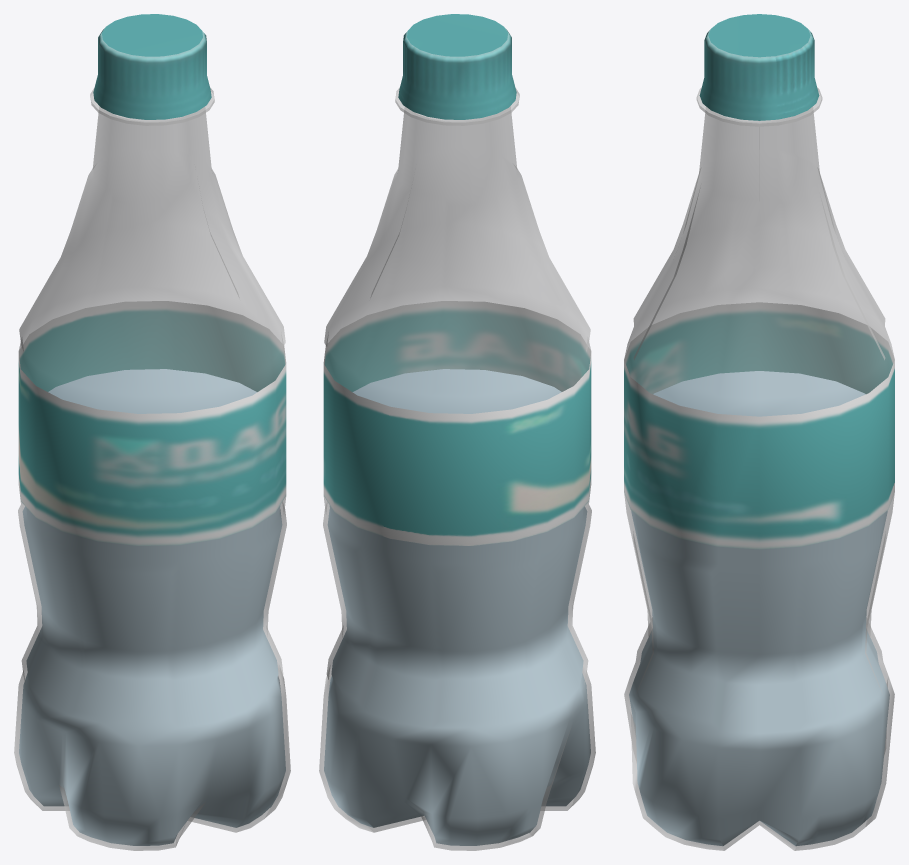
Rendered from petbottle_500ml_half_c02.fbx.
3 views of the same model, side by side, from view 1: azimuth 30°, elevation 25°; view 2: azimuth 150°, elevation 25°; view 3: azimuth 270°, elevation 25° (orthographic).
Visible parts, largest first — view 1: petbottle_500ml_half_c02; view 2: petbottle_500ml_half_c02; view 3: petbottle_500ml_half_c02.
Part boxes in pixels (x1,y1,x2,y2): petbottle_500ml_half_c02: (14, 14, 290, 850); petbottle_500ml_half_c02: (319, 14, 595, 850); petbottle_500ml_half_c02: (624, 14, 894, 850).
Bounding box in the file's own units: 7.11 × 22.31 × 7.11.
Materials: 4 (2 with a texture image).
